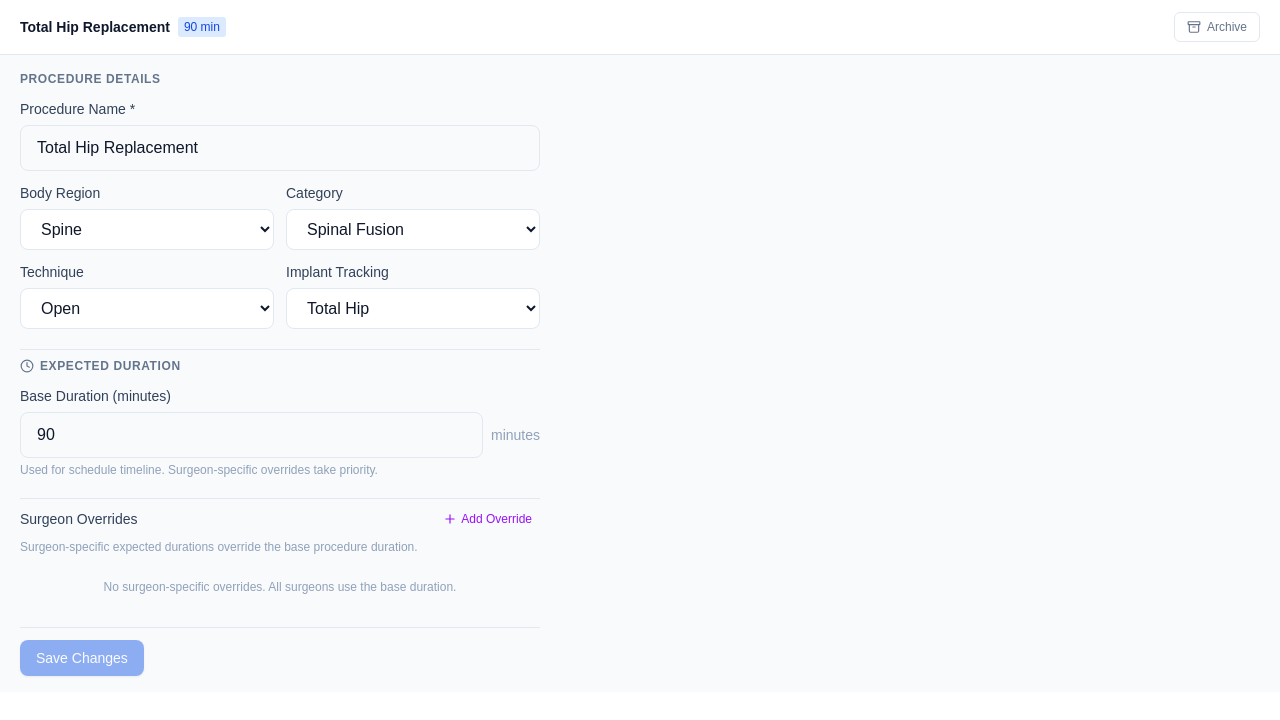
Test: ProcedureDetailPanel › Save Changes button enables after editing name
Type " Updated" into the field with placeholder "e.g., Total Hip Replacement".
click(280, 148); type(" Updated")  # box left=20, top=125, right=540, bottom=171
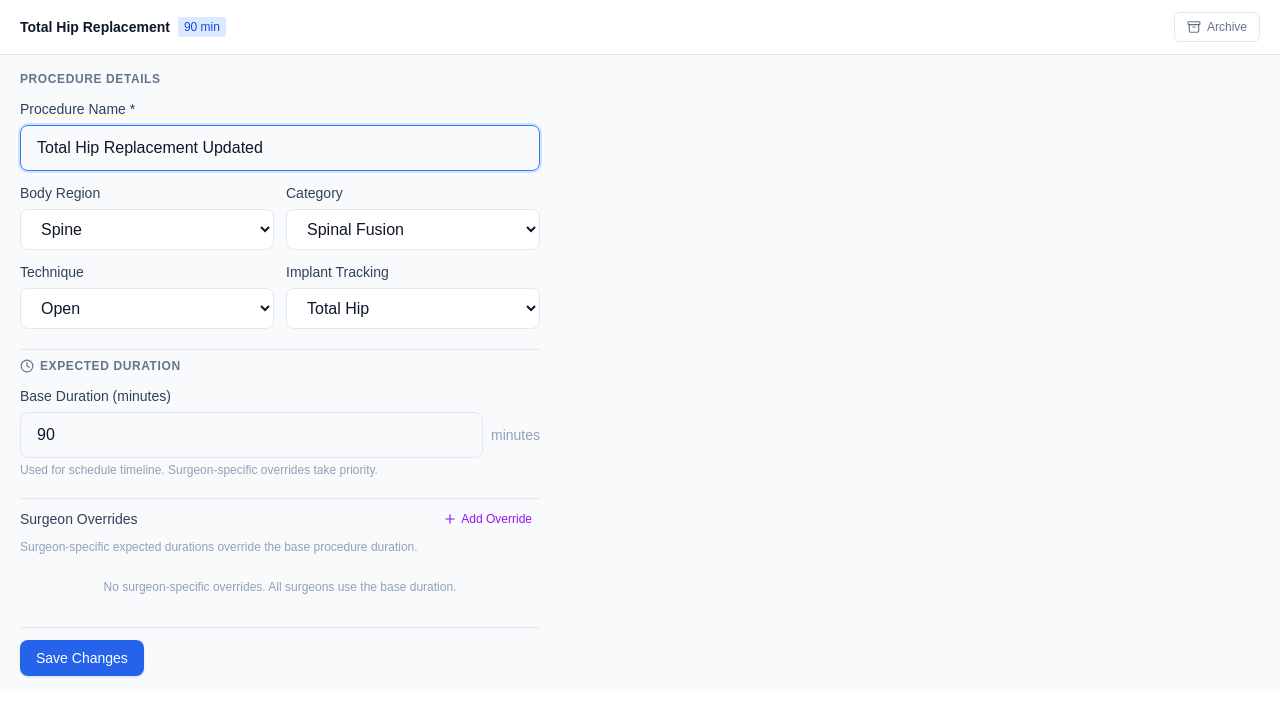
Check: the button "Save Changes" is enabled, box left=20, top=640, right=144, bottom=676
